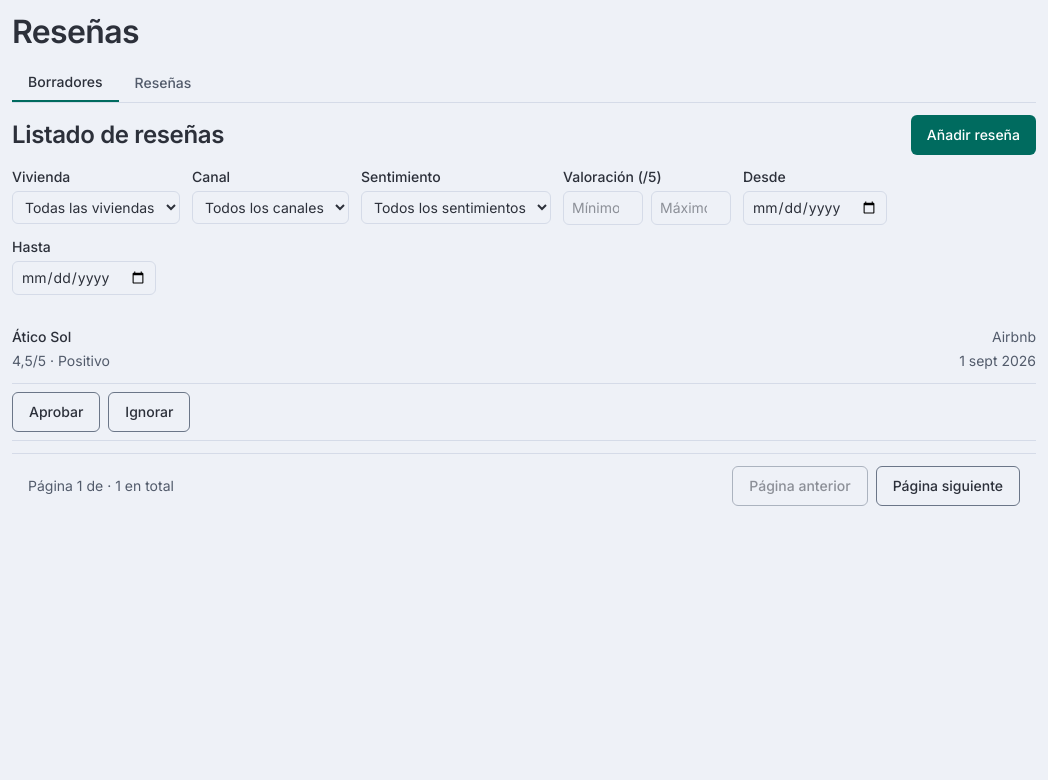
Test: ReviewsView — the detail overlay (R6.1) › shows a loading marker while the detail query is in flight
Click the button "Ático Sol Airbnb 4,5/5 · Positivo 1 sept 2026" at (42, 336), box top-left (12, 315), bottom-right (1036, 384)
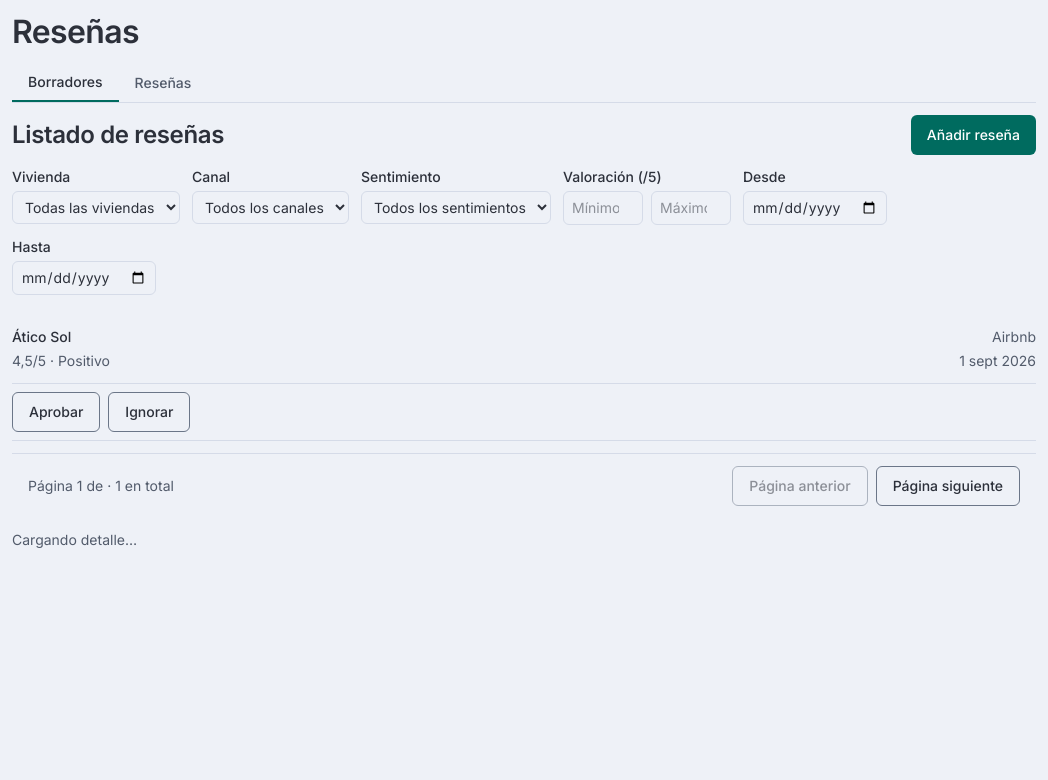
Result: the text "Cargando detalle…" is shown at top-left (12, 531), bottom-right (137, 548)
